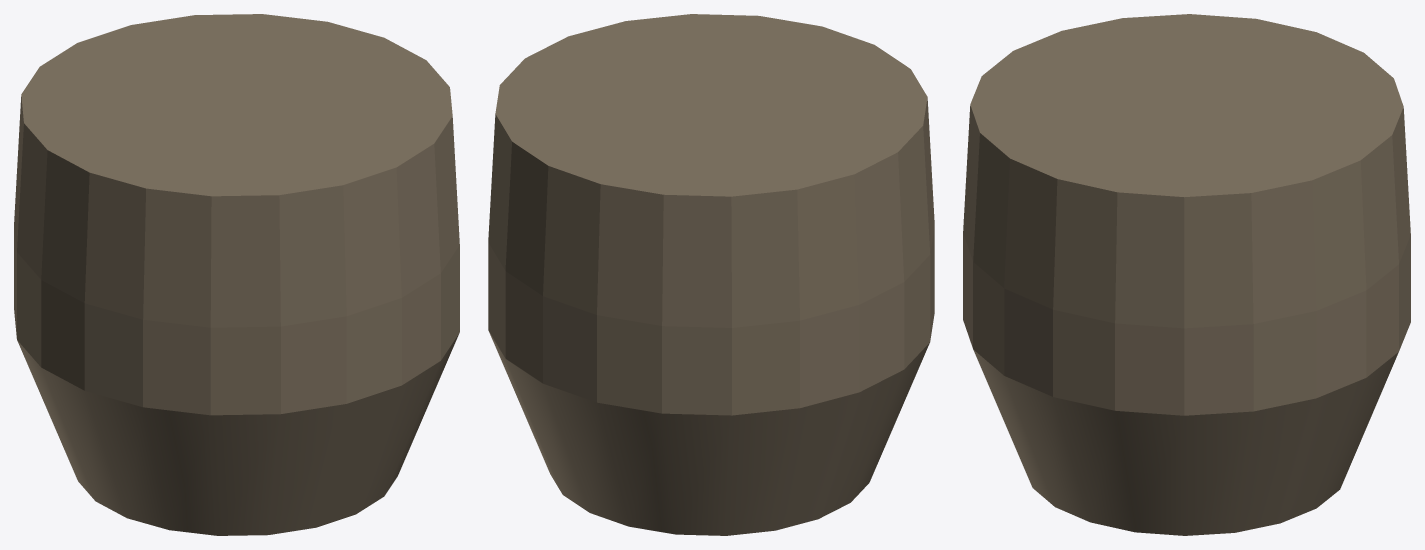
The picture shows the model from 3 angles, left to right: view 1: azimuth 30°, elevation 25°; view 2: azimuth 150°, elevation 25°; view 3: azimuth 270°, elevation 25°; orthographic projection.
Parts seen in each view (by area): view 1: bucket2; view 2: bucket2; view 3: bucket2.
Part boxes in pixels (x1=…): bucket2: x1=14, y1=14, x2=459, y2=535; bucket2: x1=488, y1=14, x2=934, y2=535; bucket2: x1=963, y1=14, x2=1410, y2=535.
Bounding box in the file's own units: 3.36 × 2.99 × 3.36.
